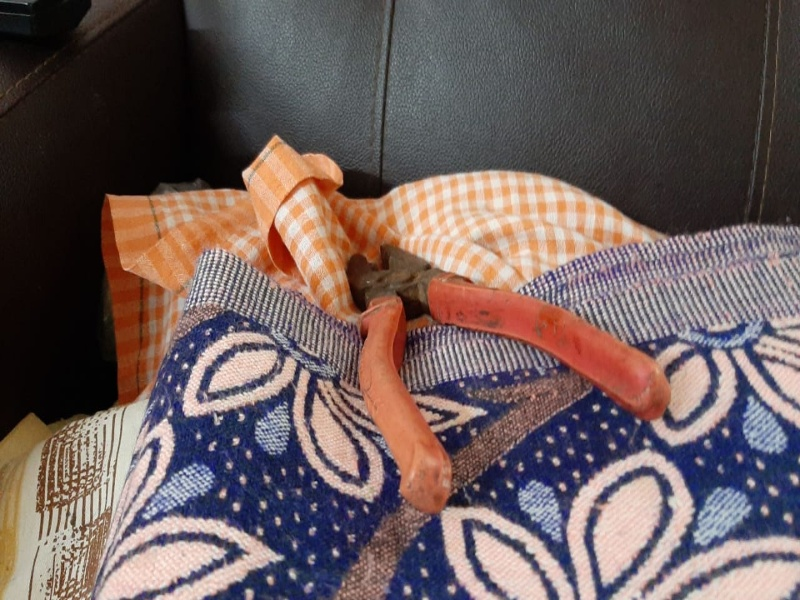cuttingplier: (348, 237, 669, 506)
